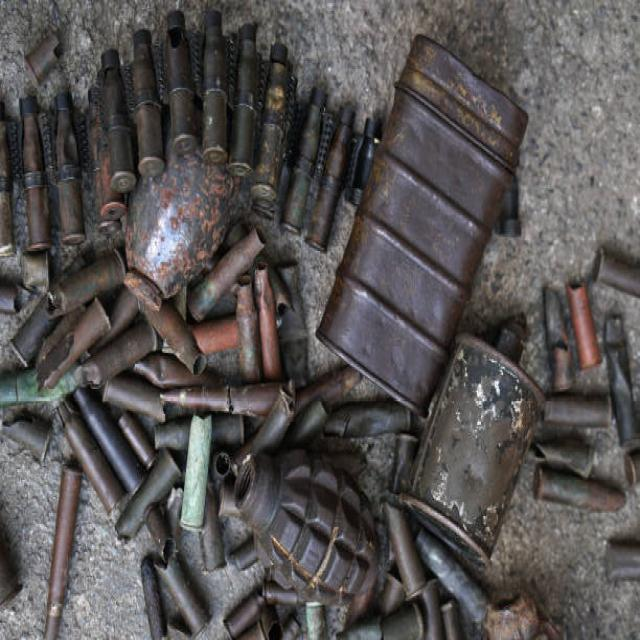grenade: (230, 443, 382, 610)
